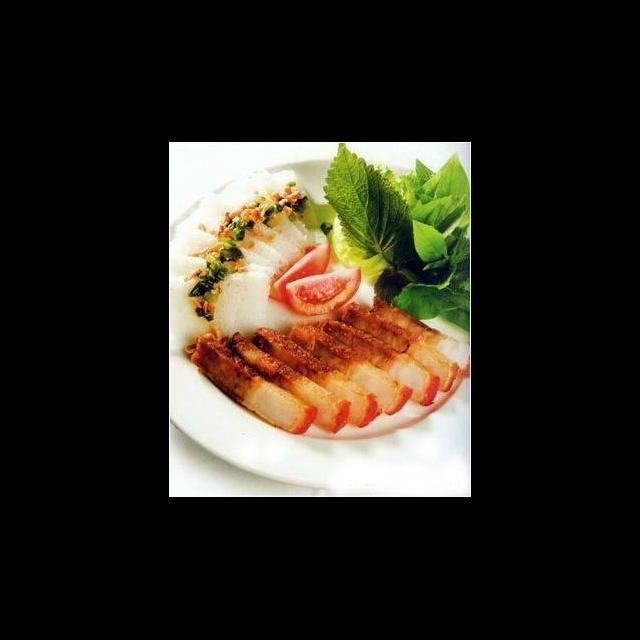banh hoi: (170, 268, 276, 356), (196, 188, 301, 268), (219, 178, 311, 256), (171, 220, 281, 280), (240, 166, 315, 248), (262, 168, 331, 246), (170, 254, 277, 298)
banh hoi heo quay: (175, 163, 471, 497)
thit heo quay: (185, 332, 320, 441), (247, 326, 381, 432), (223, 330, 354, 438), (283, 319, 415, 422), (311, 314, 444, 412), (337, 298, 462, 398), (362, 294, 471, 380)
